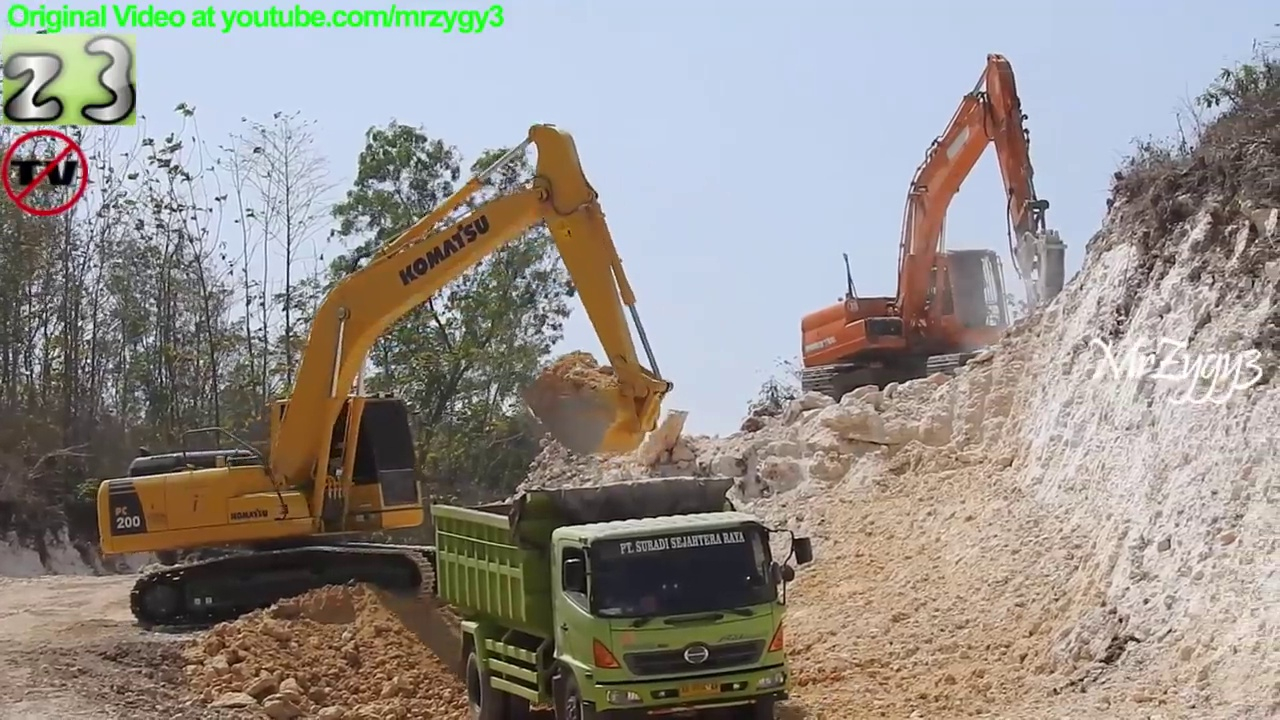excavator: (93, 120, 682, 641), (798, 48, 1075, 409)
truck: (431, 469, 819, 720)
